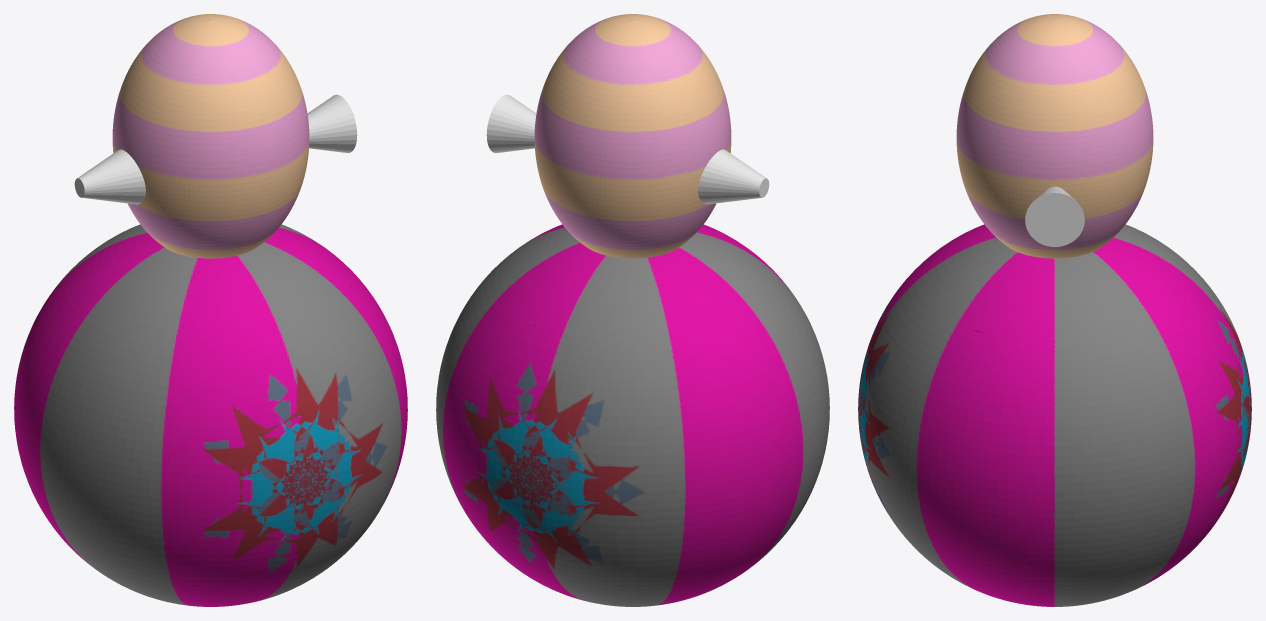
File: BOD0_BMC10_BCC0_BPT2_FRC15_HEA2_HMC17_HCC12_HPT1_ELT2_ERT3_ELL0_ERL2_AP0_AAL0_AAR2_BEK0.fbx
3 renders of one model, left to right at view 1: azimuth 30°, elevation 25°; view 2: azimuth 150°, elevation 25°; view 3: azimuth 270°, elevation 25°, orthographic.
Parts seen in each view (by area): view 1: Body, Ear, Ear.001; view 2: Body, Ear, Ear.001; view 3: Body, Ear.001.
Boxes of the visible parts, x1=… form: Body: x1=14, y1=14, x2=407, y2=606; Ear: x1=74, y1=149, x2=145, y2=204; Ear.001: x1=307, y1=94, x2=357, y2=152; Body: x1=436, y1=14, x2=829, y2=606; Ear: x1=698, y1=149, x2=769, y2=204; Ear.001: x1=486, y1=94, x2=536, y2=152; Body: x1=858, y1=14, x2=1251, y2=606; Ear.001: x1=1025, y1=186, x2=1084, y2=246.
Bounding box in the file's own units: 49.36 × 78.65 × 49.36.
1 material, 1 textured.
